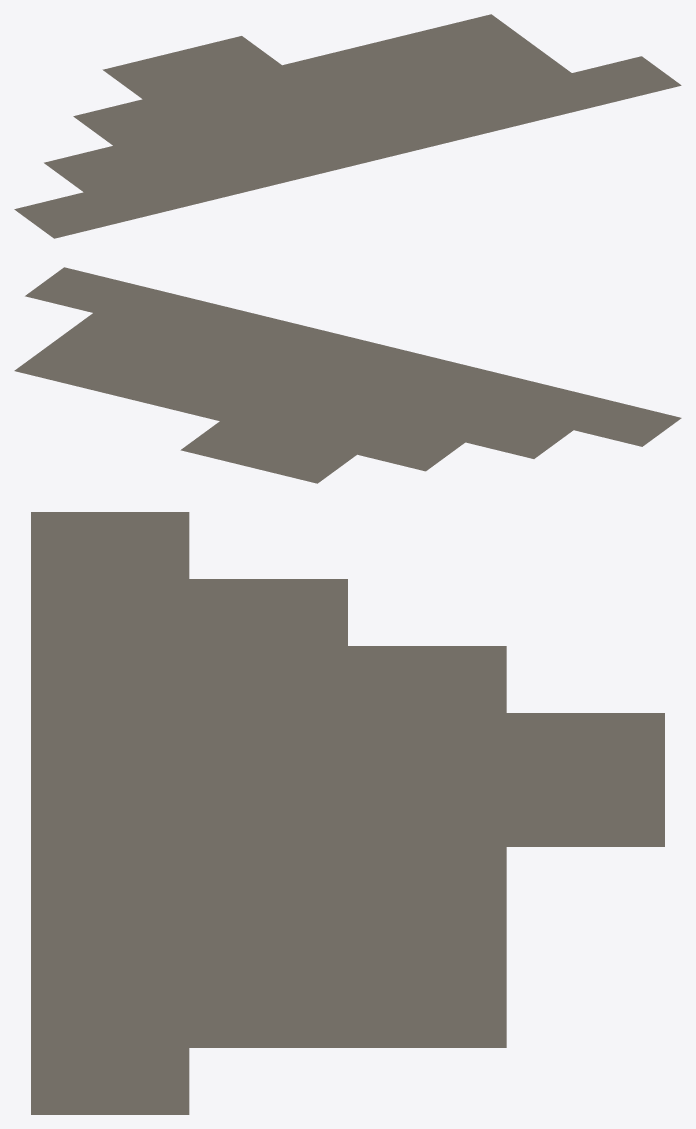
The model's file is Isl-crescent1-RocksArea.fbx.
3 views of the same model, one above another, from view 1: azimuth 30°, elevation 25°; view 2: azimuth 150°, elevation 25°; view 3: azimuth 270°, elevation 25° (orthographic). The views are drawn at different scales.
Visible parts, largest first — view 1: Isl-crescent1-RocksArea; view 2: Isl-crescent1-RocksArea; view 3: Isl-crescent1-RocksArea.
Part boxes in pixels (left/top/right/bottom): Isl-crescent1-RocksArea: left=14, top=14, right=681, bottom=238; Isl-crescent1-RocksArea: left=14, top=267, right=681, bottom=483; Isl-crescent1-RocksArea: left=31, top=512, right=664, bottom=1114.
Bounding box in the file's own units: 9 × 0 × 4.
